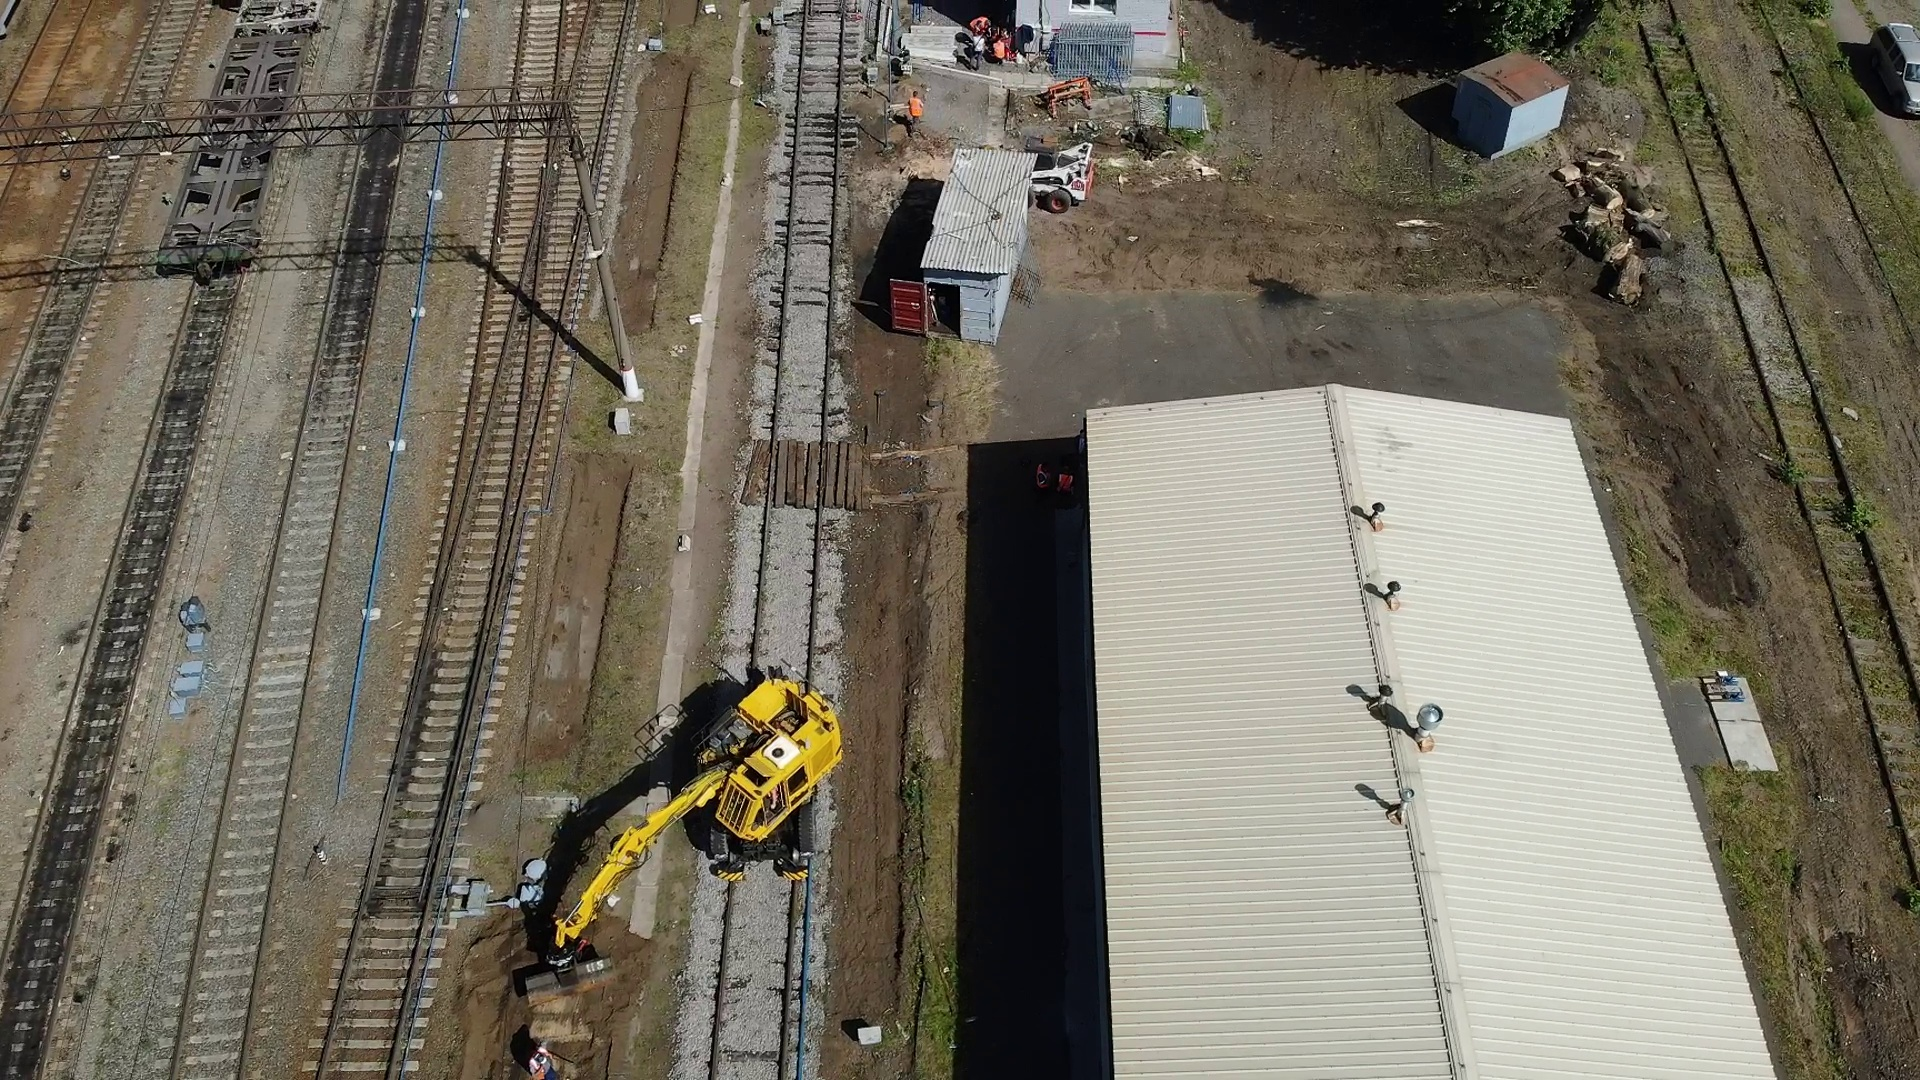kjtv: (638, 676, 827, 867)
